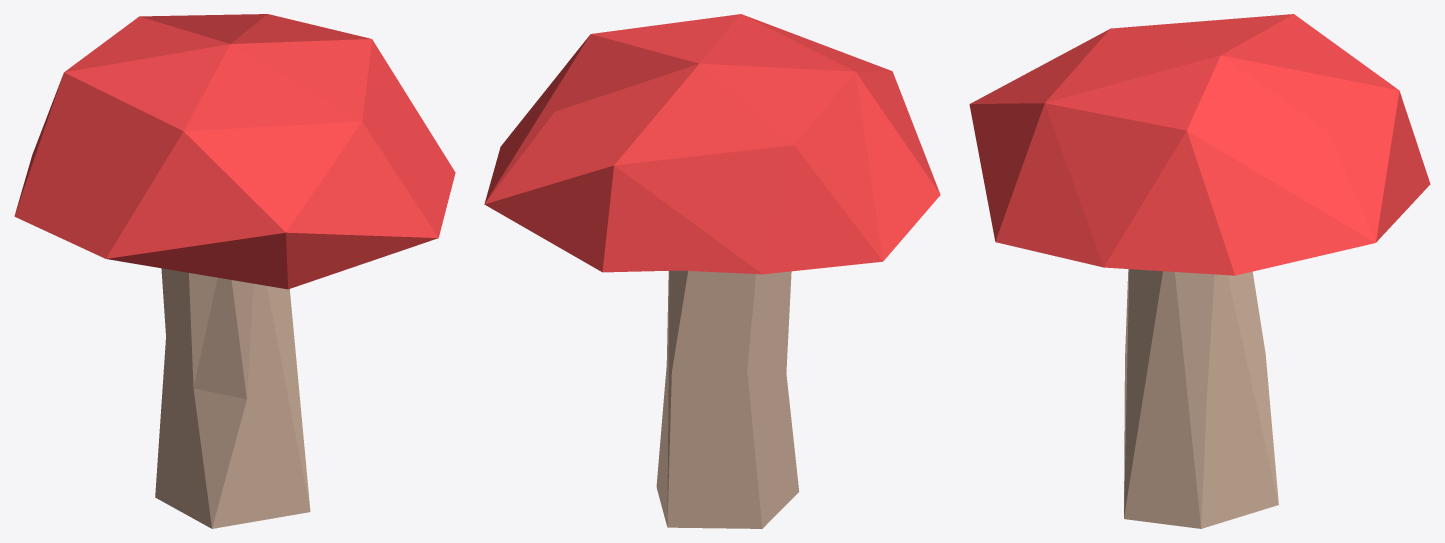
File: mushroom02.gltf
The picture shows the model from 3 angles, left to right: view 1: azimuth 30°, elevation 25°; view 2: azimuth 150°, elevation 25°; view 3: azimuth 270°, elevation 25°; orthographic projection.
Parts seen in each view (by area): view 1: Cylinder; view 2: Cylinder; view 3: Cylinder.
Boxes of the visible parts, <box> form: Cylinder: <box>14,14,455,528</box>; Cylinder: <box>484,14,940,528</box>; Cylinder: <box>969,14,1430,528</box>.
Bounding box in the file's own units: 0.1174 × 0.1269 × 0.1184.
Materials: 1 (1 with a texture image).
